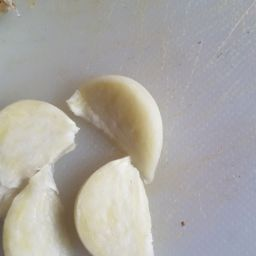Garlic cloves: (4, 66, 168, 256), (50, 68, 182, 185), (71, 156, 161, 256), (2, 95, 78, 203), (2, 163, 75, 256)
